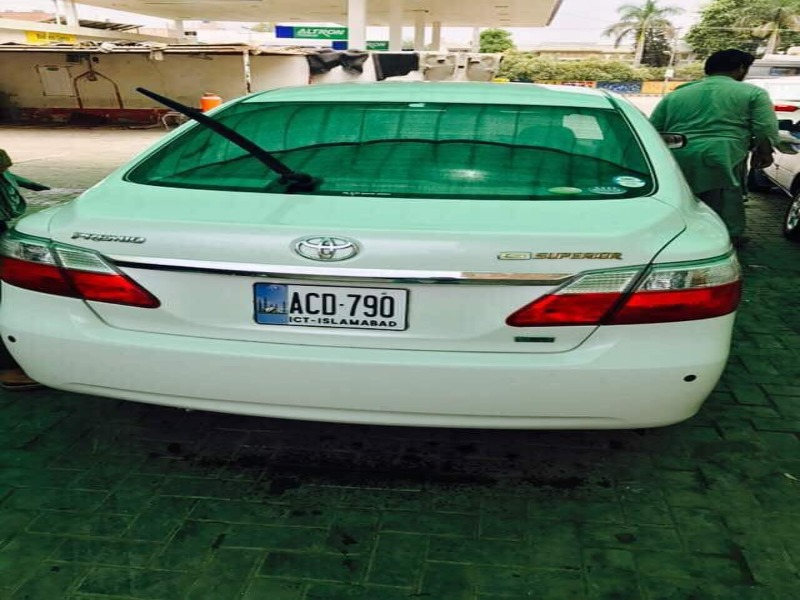License Plate: (248, 278, 416, 336)
